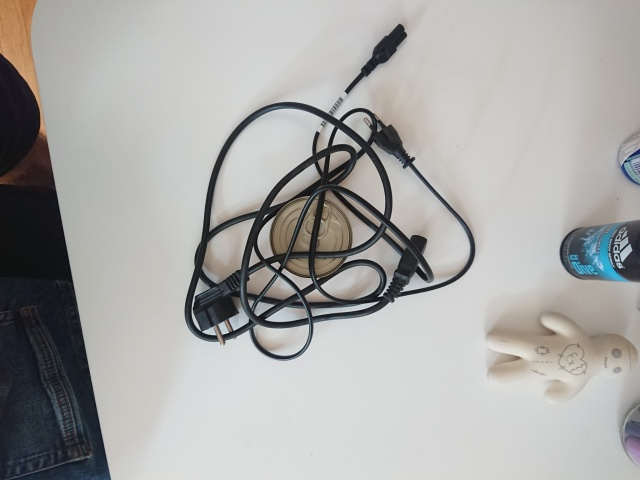Gavrilovic Pork Liver Pate 100g: (267, 193, 354, 280)
